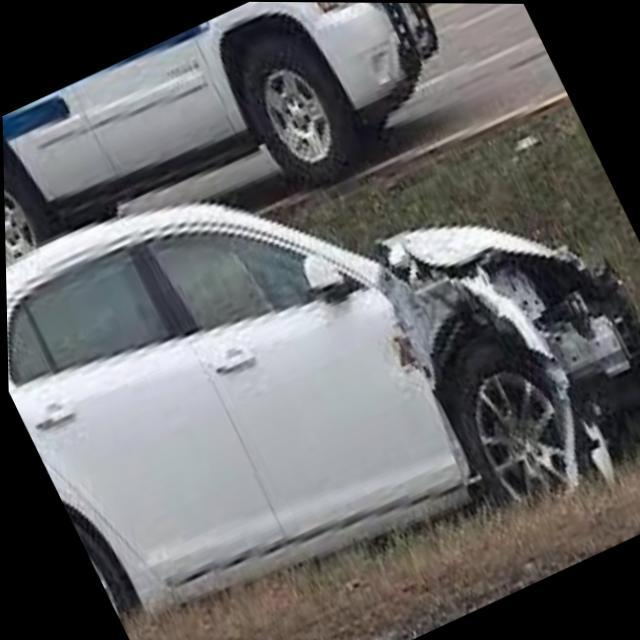crash: (355, 227, 640, 480)
